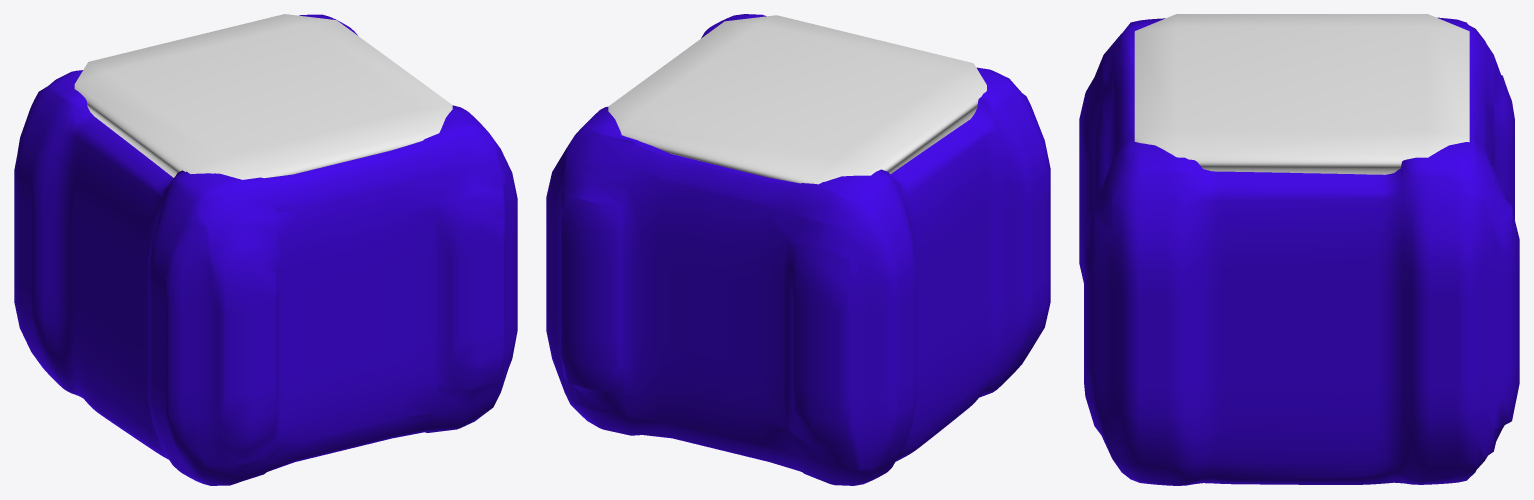
The model's file is Weird crate.fbx.
3 renders of one model, left to right at view 1: azimuth 30°, elevation 25°; view 2: azimuth 150°, elevation 25°; view 3: azimuth 270°, elevation 25°, orthographic. The views are drawn at different scales.
Visible parts, largest first — view 1: Mball, Cube; view 2: Mball, Cube; view 3: Mball, Cube.
Boxes of the visible parts, x1=… form: Mball: x1=14, y1=14, x2=517, y2=485; Cube: x1=74, y1=14, x2=452, y2=179; Mball: x1=546, y1=14, x2=1050, y2=485; Cube: x1=608, y1=15, x2=986, y2=184; Mball: x1=1079, y1=17, x2=1519, y2=485; Cube: x1=1134, y1=14, x2=1469, y2=174.
Bounding box in the file's own units: 585 × 510 × 591.
